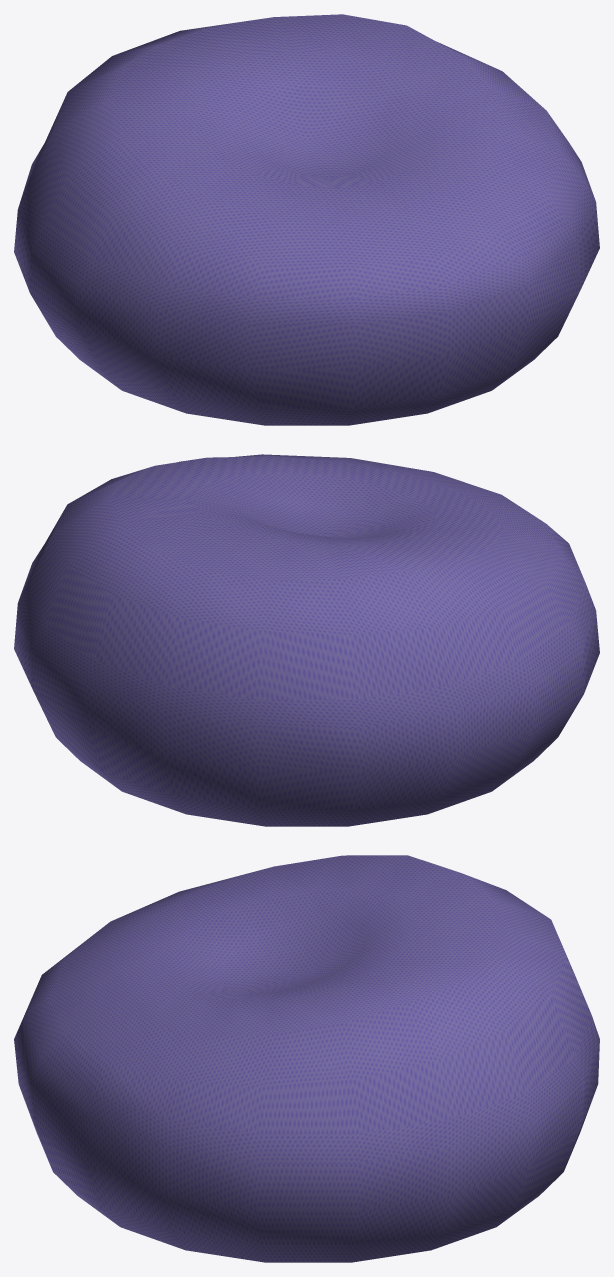
File: Bean_bag_05.FBX
The picture shows the model from 3 angles, top to bottom: view 1: azimuth 30°, elevation 25°; view 2: azimuth 150°, elevation 25°; view 3: azimuth 270°, elevation 25°; orthographic projection.
Visible parts, largest first — view 1: Bean_bag_Chair; view 2: Bean_bag_Chair; view 3: Bean_bag_Chair.
Boxes of the visible parts, x1=… form: Bean_bag_Chair: x1=14, y1=14, x2=599, y2=425; Bean_bag_Chair: x1=14, y1=454, x2=599, y2=826; Bean_bag_Chair: x1=14, y1=855, x2=599, y2=1262.
Size of the model in its own units: 194 by 84.31 by 191.
